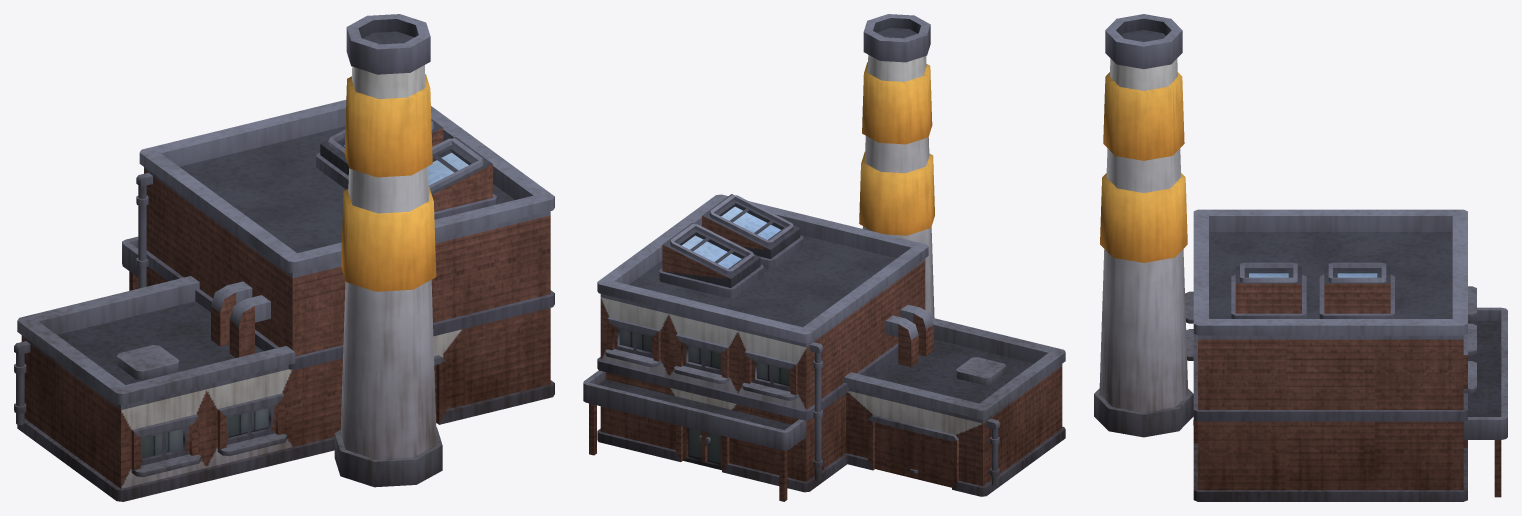
Rendered from building-l-brown.glb.
3 renders of one model, left to right at view 1: azimuth 30°, elevation 25°; view 2: azimuth 150°, elevation 25°; view 3: azimuth 270°, elevation 25°, orthographic. The views are drawn at different scales.
Parts seen in each view (by area): view 1: building-l; view 2: building-l; view 3: building-l.
Boxes of the visible parts, left/top/right/bottom form: building-l: left=14, top=14, right=554, bottom=501; building-l: left=583, top=14, right=1065, bottom=501; building-l: left=1094, top=14, right=1507, bottom=501.
Bounding box in the file's own units: 2.08 × 1.92 × 1.87.
1 material, 1 textured.
